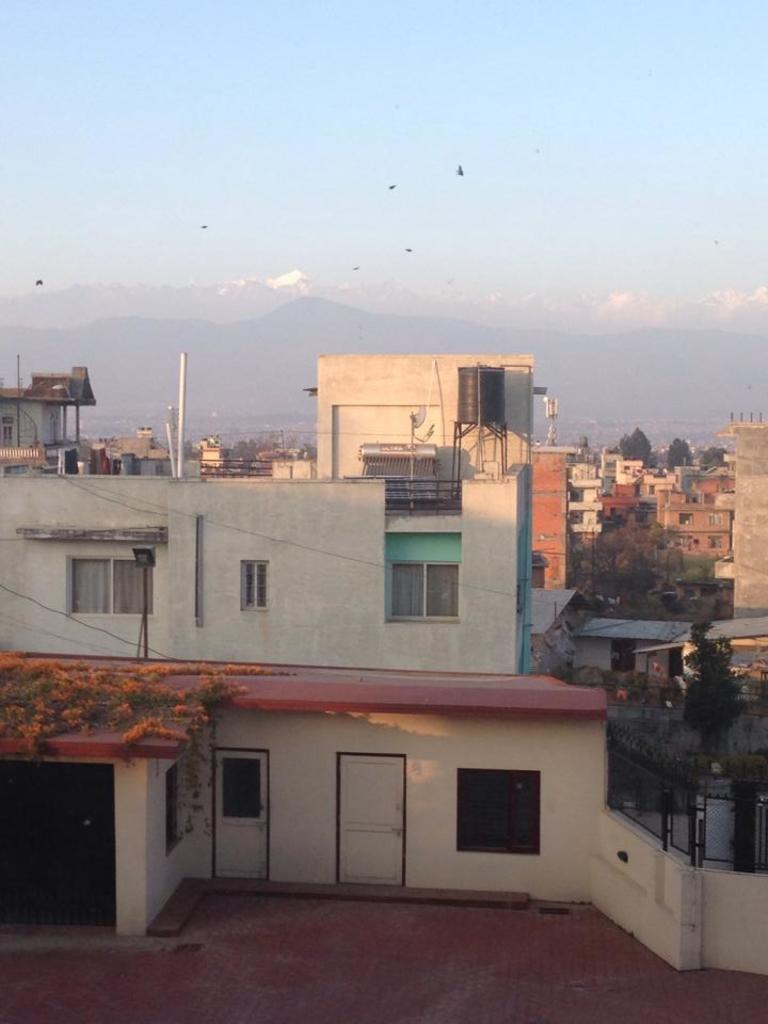Tree: (673, 628, 757, 745)
